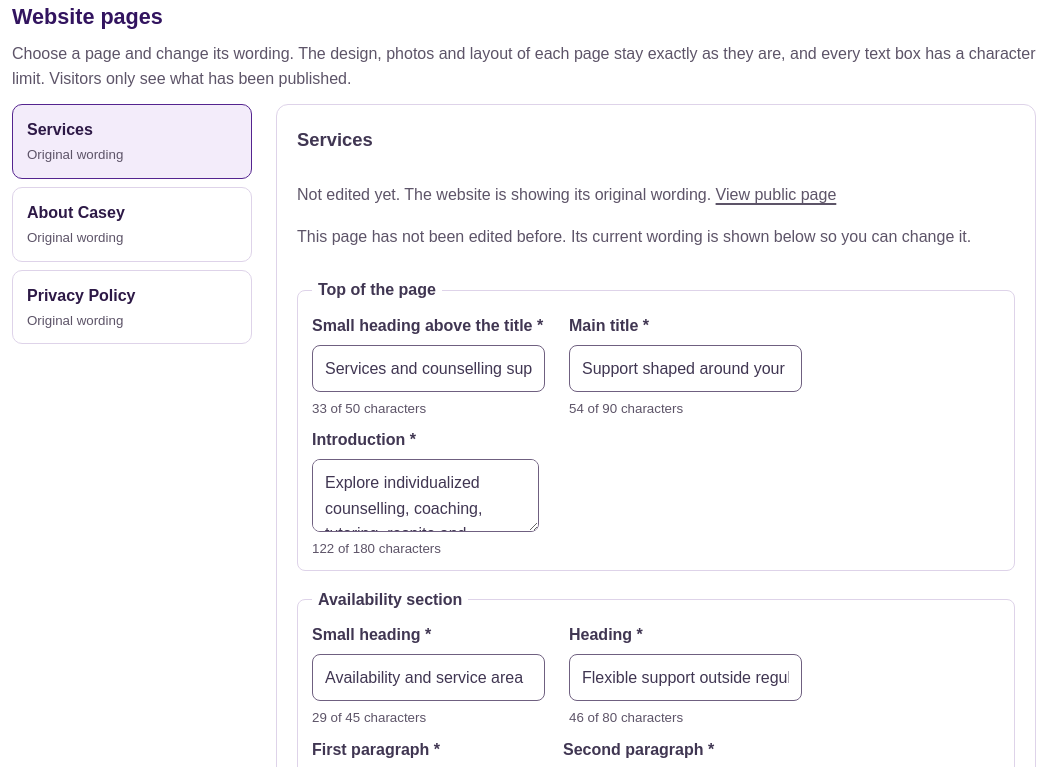
Test case: AdminContentPages: the editor › switches to another page and shows its boxes
This screenshot has width=1048, height=767.
Click the button "About Casey Original wording". click: (132, 224)
box: [12,187,252,262]
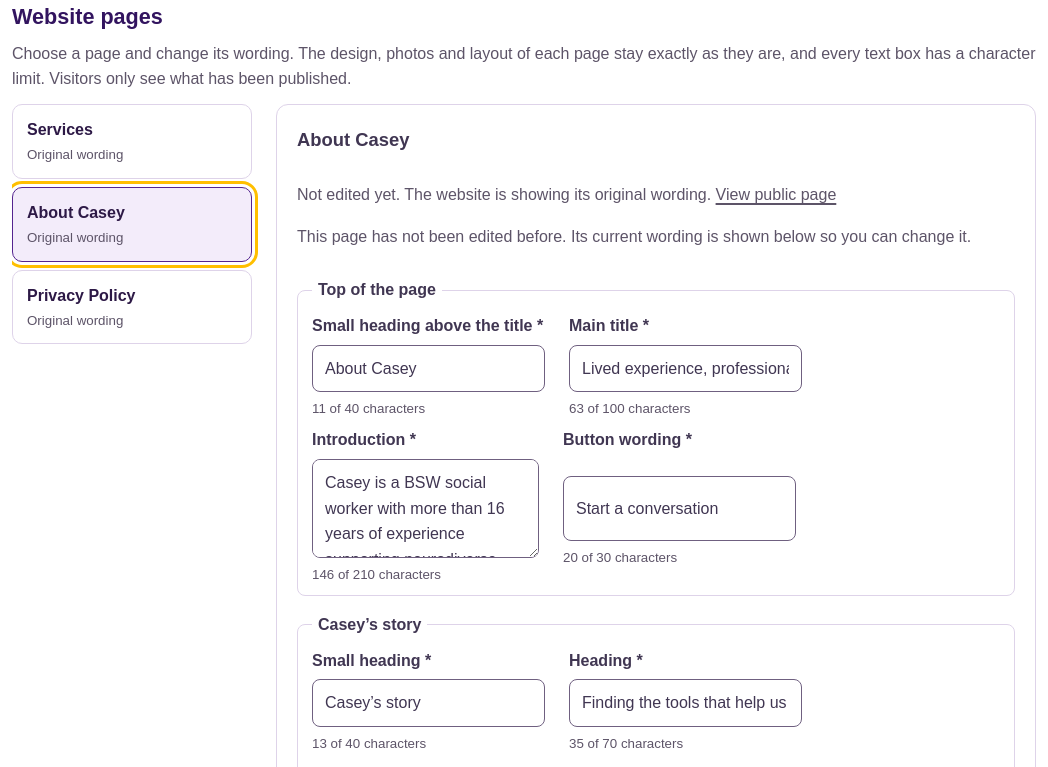
Result: the heading "About Casey" is shown at [297,129,409,150]
Result: the field labelled "Button wording *" is shown at [563,476,796,541]
